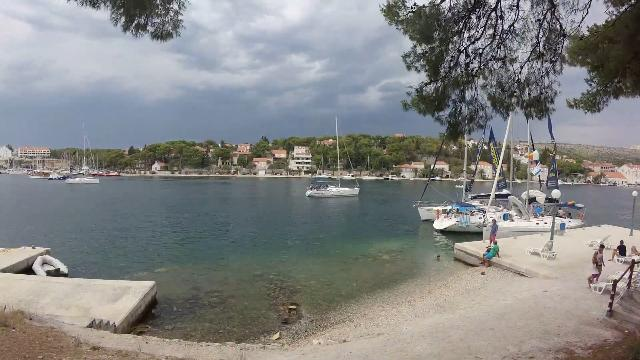Freighter: (21, 162, 55, 180)
Sailboat: (301, 180, 367, 200), (61, 172, 106, 188)
speedboat: (44, 168, 74, 182)
